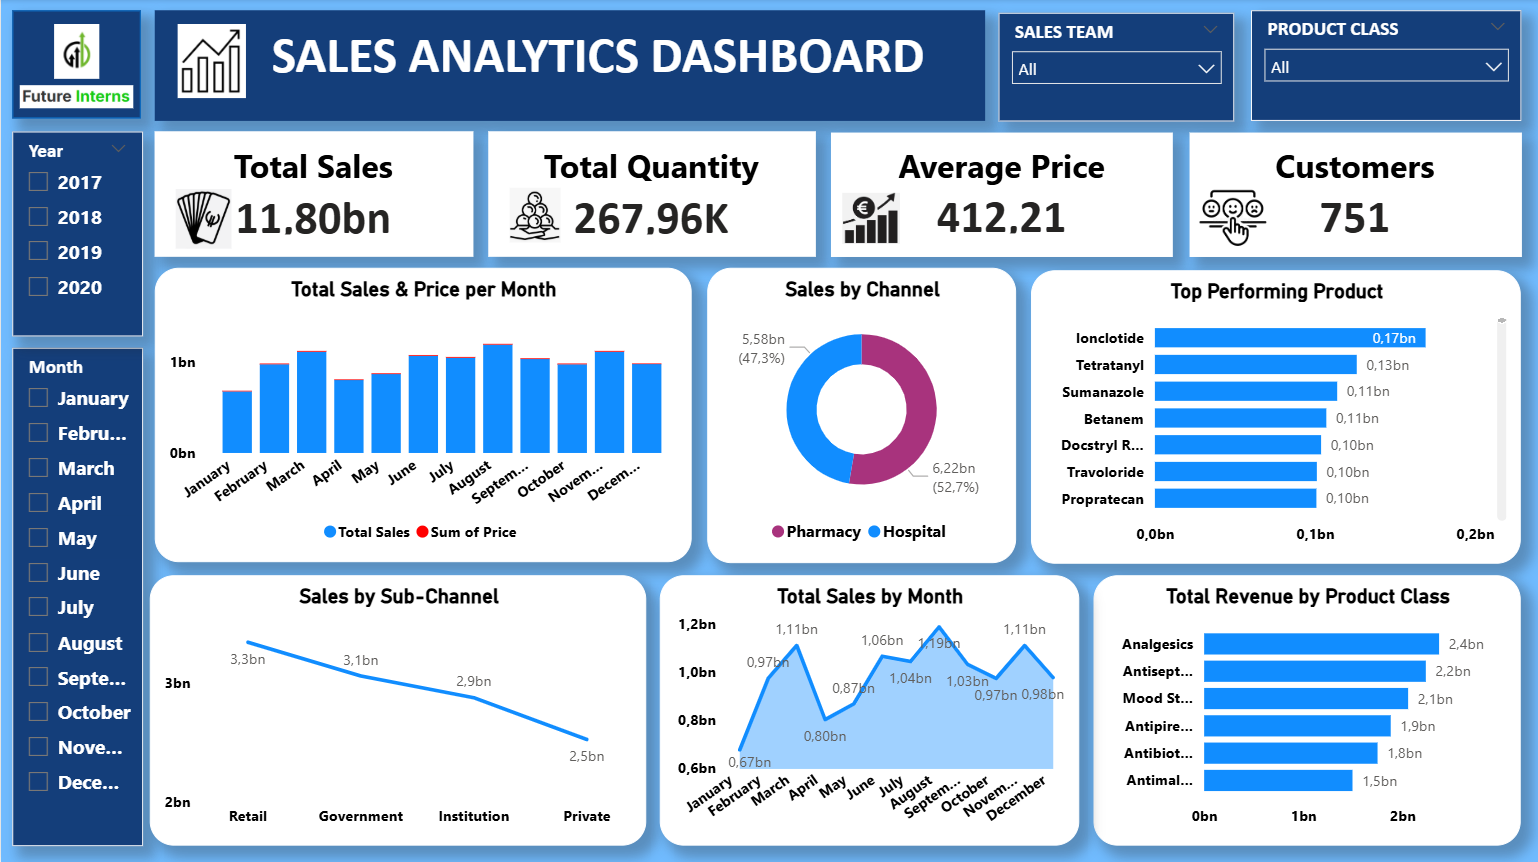

The dashboard page shown, as its layout file describes it:
{"tool":"powerbi","page":{"name":"Page 1","canvas":[1280,720],"ordinal":0},"visuals":[{"type":"shape","box":[9.6,9.6,107,90],"z":0},{"type":"image","box":[24.7,20.6,75.5,45.3],"z":1000},{"type":"image","box":[15.1,43.9,94.7,75.5],"z":2000},{"type":"textbox","box":[127.6,9.6,690.2,91.9],"z":3000},{"type":"image","box":[144.1,20.6,61.7,61.7],"z":4000},{"type":"slicer","fields":{"Values":["Data.Sales Team"]},"box":[828.8,11,196.2,90.6],"z":5000},{"type":"slicer","fields":{"Values":["Data.Month"]},"box":[9.6,289.5,108.4,414.4],"z":6000},{"type":"slicer","fields":{"Values":["Data.Year"]},"box":[9.6,109.8,108.4,170.2],"z":7000},{"type":"slicer","fields":{"Values":["Data.Product Class"]},"box":[1038.8,9.6,225,91.9],"z":8000},{"type":"cardVisual","fields":{"Data":["Data.Total Sales"]},"box":[127.6,109.8,264.8,104.3],"z":9000},{"type":"cardVisual","fields":{"Data":["Data.Total Quantity"]},"box":[404.8,109.8,271.7,104.3],"z":10000},{"type":"cardVisual","fields":{"Data":["Data.Average Price"]},"box":[690.2,111.1,284,102.9],"z":11000},{"type":"cardVisual","fields":{"Data":["Data.Customers"]},"box":[988,111.1,275.8,102.9],"z":12000},{"type":"image","box":[144.1,157.8,48,49.4],"z":13000},{"type":"image","box":[416.1,157.4,57,45.4],"z":14000},{"type":"image","box":[699.8,157.8,48,49.4],"z":15000},{"type":"image","box":[994.9,153.7,60.4,56.3],"z":16000},{"type":"columnChart","title":"Total Sales & Price per Month","fields":{"Y":["Data.Total Sales","Sum(Data.Price)"],"Category":["Data.Month"]},"box":[127.6,223.7,446,245],"z":17000},{"type":"lineChart","title":"Sales by Sub-Channel","fields":{"Y":["Data.Total Sales"],"Category":["Data.Sub-channel"]},"box":[123.5,478.9,413,225],"z":18000},{"type":"donutChart","title":"Sales by Channel","fields":{"Y":["Data.Total Sales"],"Category":["Data.Channel"]},"box":[587.3,223.7,256.6,245.6],"z":19000},{"type":"clusteredBarChart","title":"Top Performing Product","fields":{"Category":["Data.Product Name"],"Y":["Data.Total Sales"]},"box":[856.3,225,407.5,244.3],"z":20000},{"type":"clusteredBarChart","title":"Total Revenue by Product Class","fields":{"Category":["Data.PRODUCT CLASS"],"Y":["Data.Total Sales"]},"box":[908.4,478.9,355.4,225],"z":21000},{"type":"areaChart","title":"Total Sales by Month","fields":{"Y":["Data.Total Sales"],"Category":["Data.Month"]},"box":[547.5,478.9,348.5,225],"z":22000}]}

Visuals, with their boxes in screenshot pixels (x1, y1, x2, y2), scaled from the page's 1280x720 canvas onto the 1538x862 screenshot:
shape: rect(12, 11, 140, 119)
image: rect(30, 25, 120, 79)
image: rect(18, 53, 132, 143)
textbox: rect(153, 11, 983, 122)
image: rect(173, 25, 247, 99)
slicer - Data.Sales Team: rect(996, 13, 1232, 122)
slicer - Data.Month: rect(12, 347, 142, 843)
slicer - Data.Year: rect(12, 131, 142, 335)
slicer - Data.Product Class: rect(1248, 11, 1519, 122)
cardVisual - Data.Total Sales: rect(153, 131, 471, 256)
cardVisual - Data.Total Quantity: rect(486, 131, 813, 256)
cardVisual - Data.Average Price: rect(829, 133, 1171, 256)
cardVisual - Data.Customers: rect(1187, 133, 1519, 256)
image: rect(173, 189, 231, 248)
image: rect(500, 188, 568, 243)
image: rect(841, 189, 899, 248)
image: rect(1195, 184, 1268, 251)
"Total Sales & Price per Month" columnChart: rect(153, 268, 689, 561)
"Sales by Sub-Channel" lineChart: rect(148, 573, 645, 843)
"Sales by Channel" donutChart: rect(706, 268, 1014, 562)
"Top Performing Product" clusteredBarChart: rect(1029, 269, 1519, 562)
"Total Revenue by Product Class" clusteredBarChart: rect(1091, 573, 1519, 843)
"Total Sales by Month" areaChart: rect(658, 573, 1077, 843)
